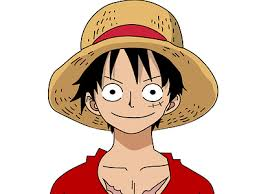luffy: (46, 1, 220, 140)
